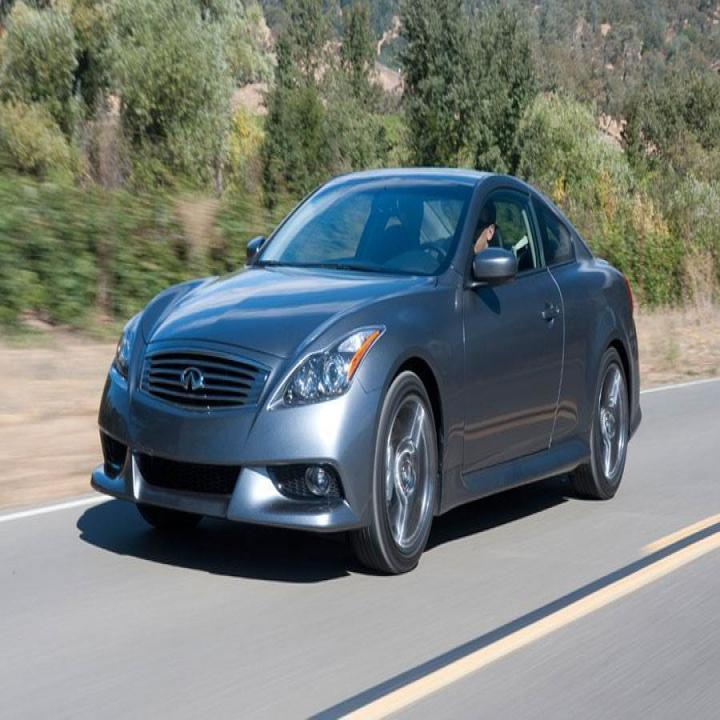car: (89, 164, 642, 575)
